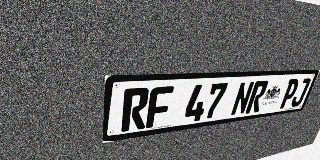4: (183, 84, 210, 123)
7: (202, 83, 228, 120)
F: (146, 86, 174, 128)
J: (289, 78, 312, 107)
N: (230, 81, 255, 116)
P: (278, 79, 301, 109)
R: (121, 87, 150, 132), (245, 81, 269, 114)
